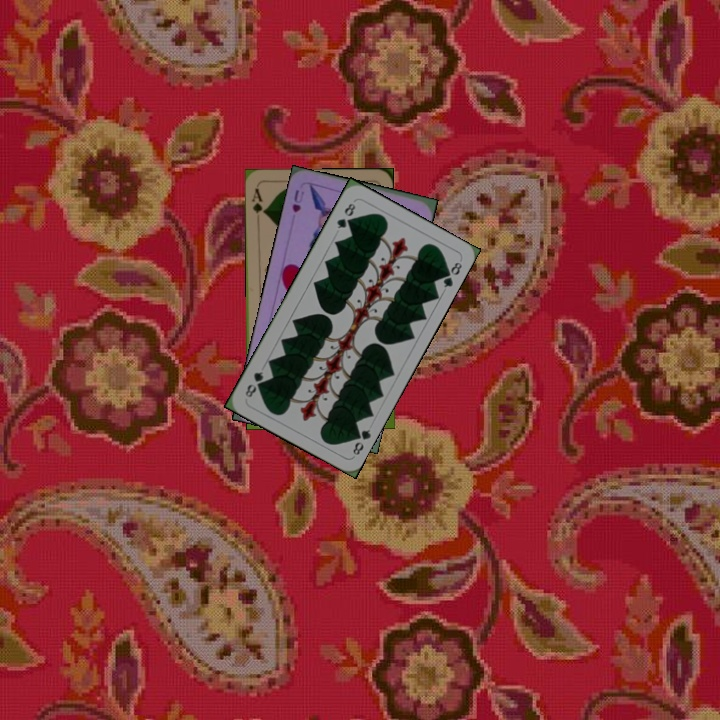G8: (348, 425, 373, 458), (333, 199, 358, 231)
GA: (248, 185, 268, 224)
HU: (288, 185, 307, 215)
